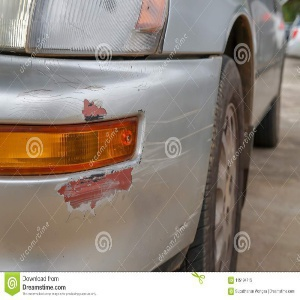bumper_scratch: (45, 169, 156, 214)
